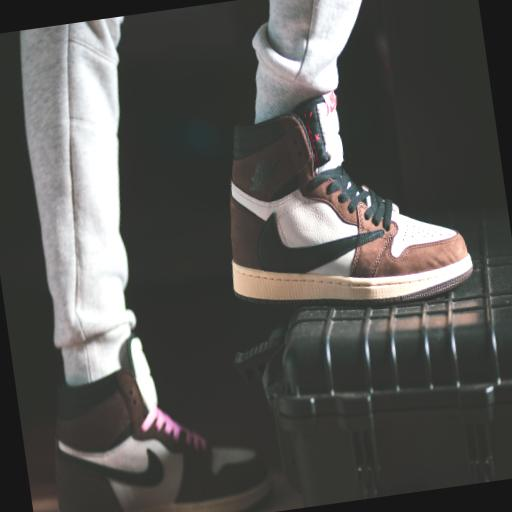shoe: (231, 93, 472, 304), (56, 369, 271, 511)
